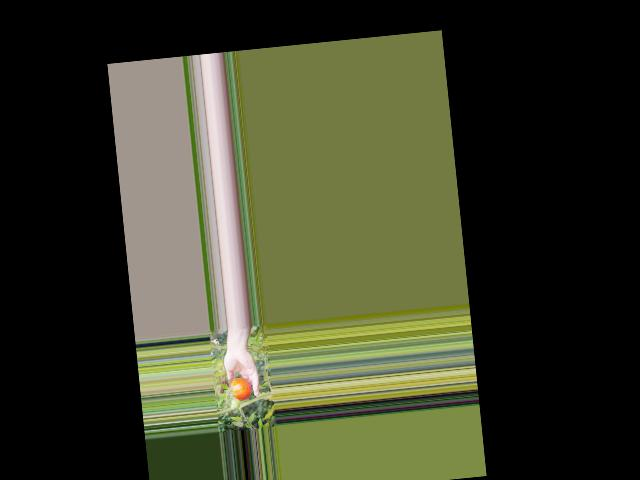tomato: (229, 376, 252, 401)
